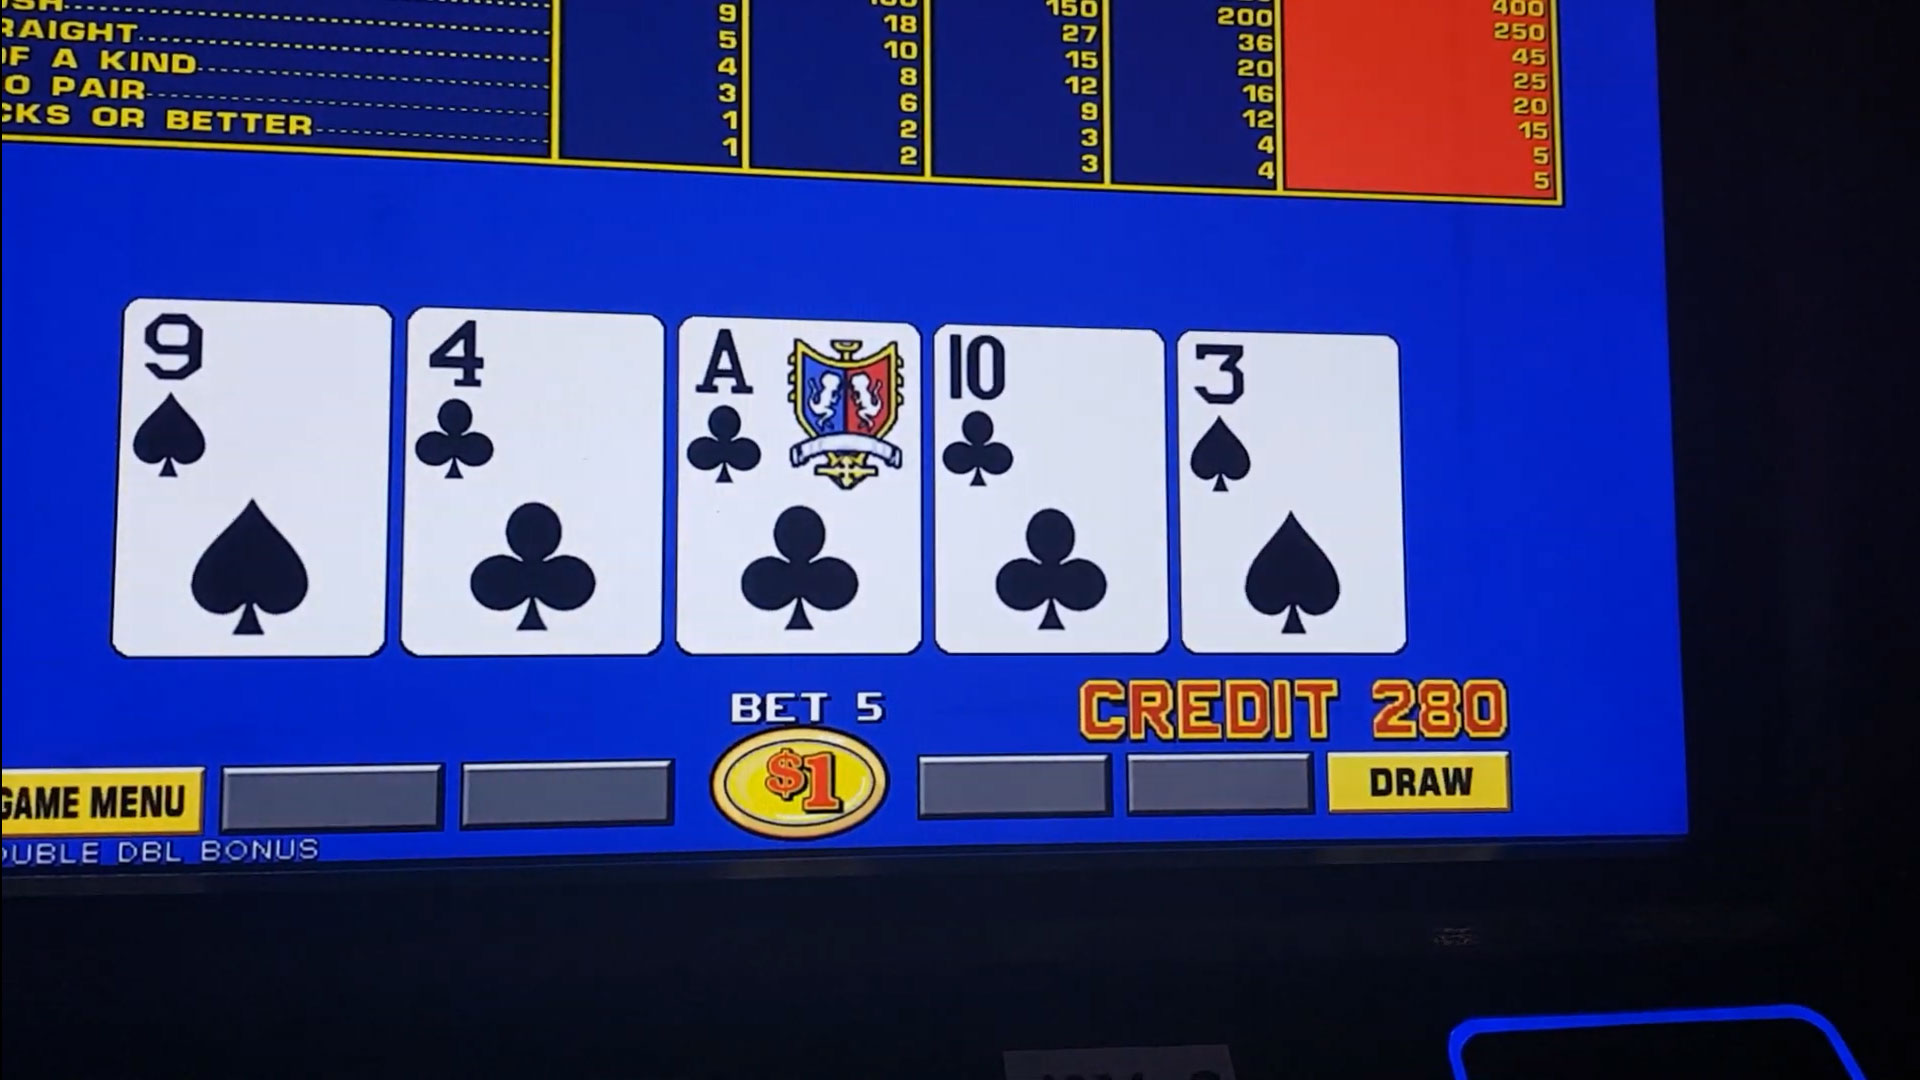C4: (410, 320, 653, 505)
CA: (680, 324, 914, 498)
CT: (945, 334, 1160, 513)
S3: (1185, 339, 1393, 512)
S9: (131, 305, 382, 488)
